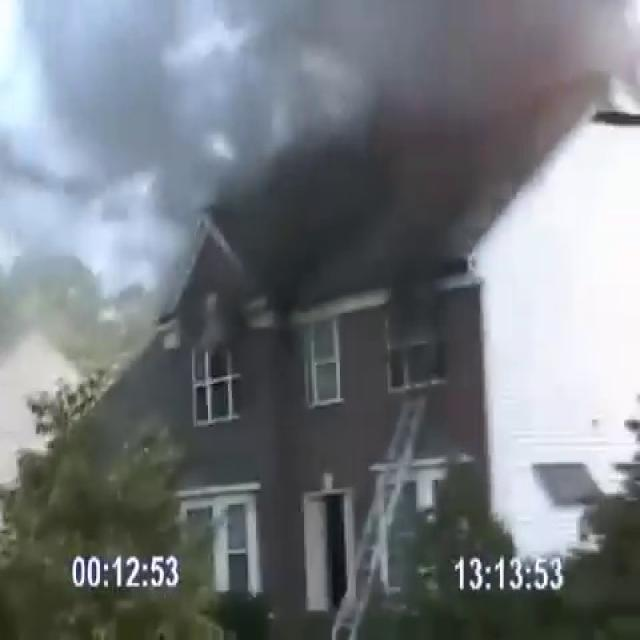Smoke: (13, 0, 639, 421)
